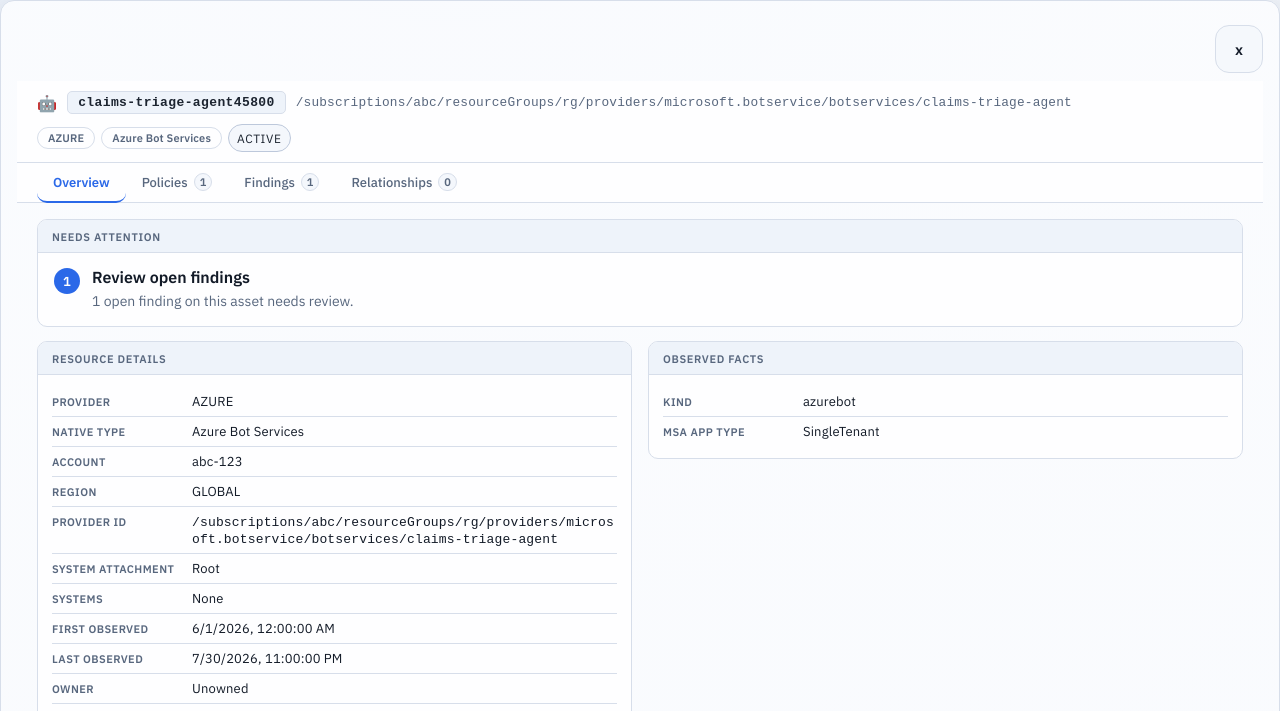
Test: AiAssetDetailPage › shows only findings scoped to this artifact in the Findings tab
Check: the text "claims-triage-agent45800" is shown, box [67,91,286,114]
Click the button "Findings 1". click: [282, 183]
box: [228,163,335,203]
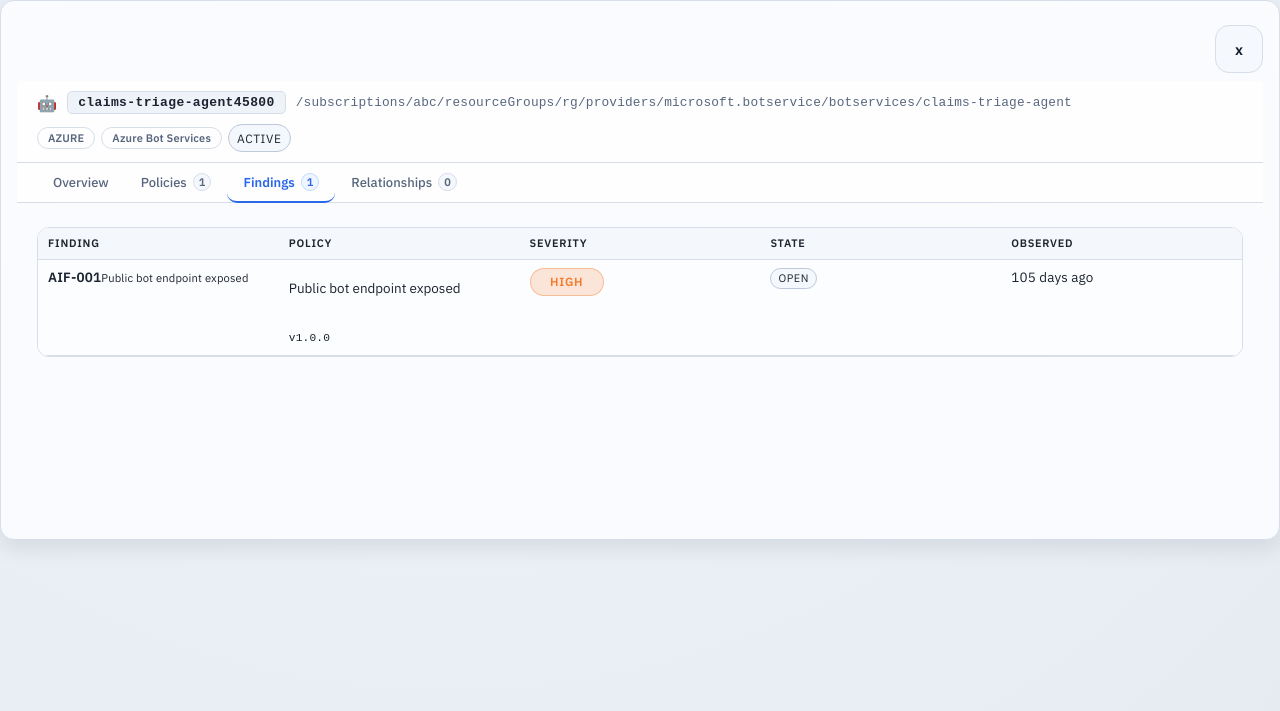
Check: the text "AIF-001" is shown, box [48,268,101,286]
